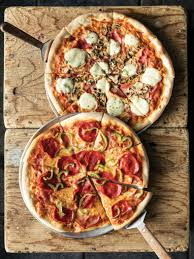pizza: (41, 15, 179, 129), (19, 114, 149, 230)
